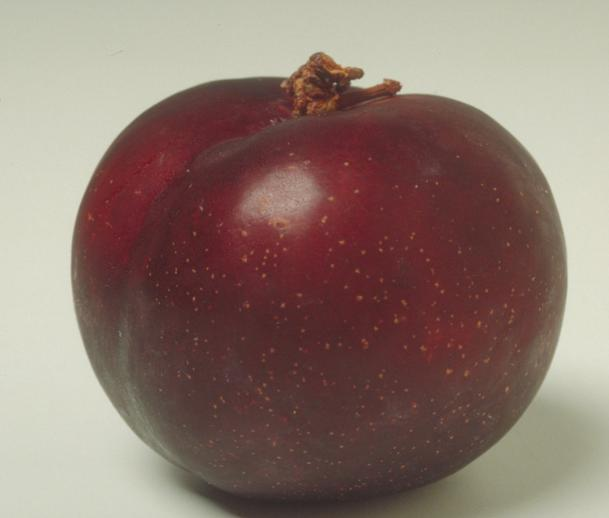plum_A: (70, 76, 568, 501)
